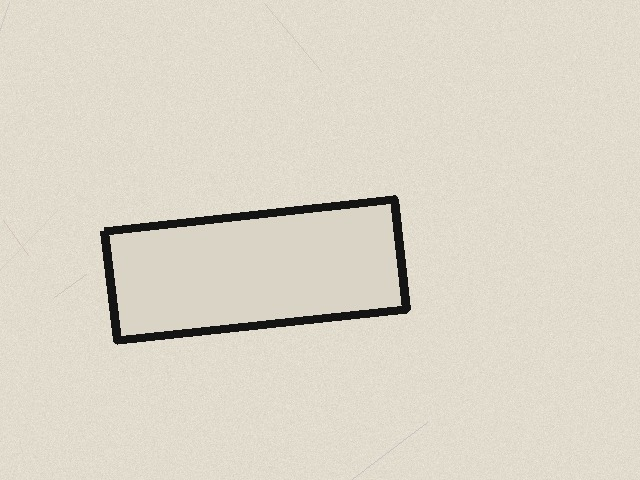parking_area: (104, 199, 406, 340)
